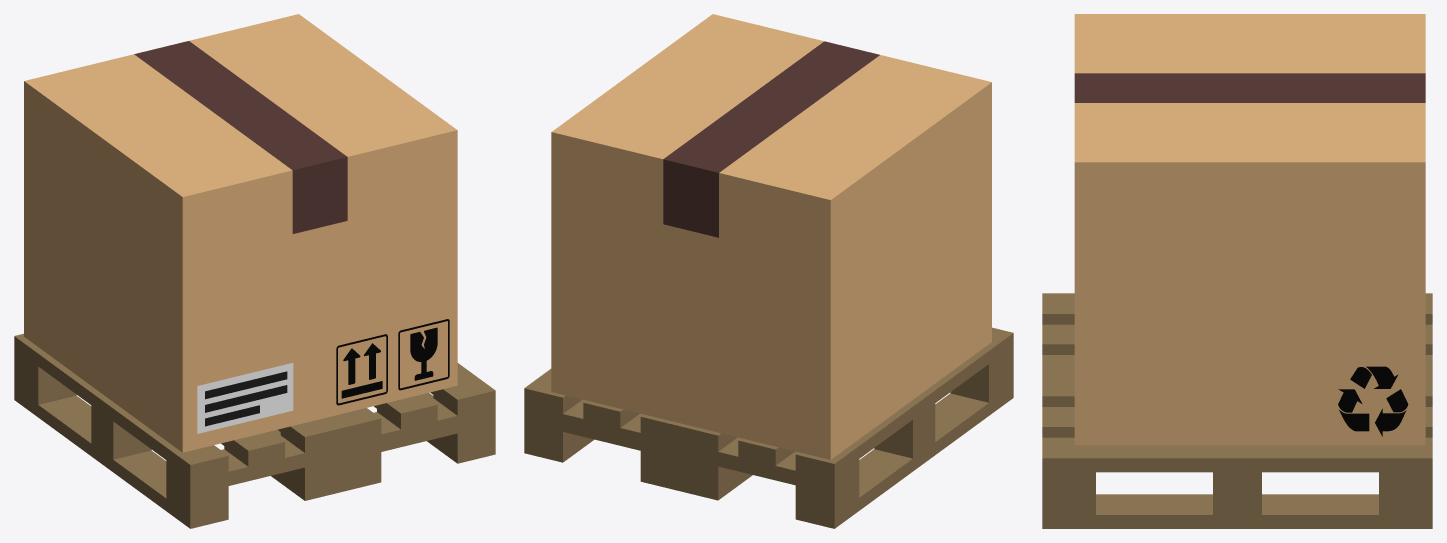
Rendered from package3.fbx.
3 views of the same model, side by side, from view 1: azimuth 30°, elevation 25°; view 2: azimuth 150°, elevation 25°; view 3: azimuth 270°, elevation 25° (orthographic). The views are drawn at different scales.
Parts seen in each view (by area): view 1: Package, Palette, Band, Plane.002, Plane.001, Plane, Plane.004, Plane.003; view 2: Package, Palette, Band; view 3: Package, Palette, Band, Plane.006.
Part boxes in pixels (left/top/right/bottom): Package: left=24, top=14, right=457, bottom=452; Palette: left=14, top=333, right=495, bottom=528; Band: left=134, top=41, right=347, bottom=233; Plane.002: left=197, top=363, right=293, bottom=433; Plane.001: left=336, top=334, right=387, bottom=405; Plane: left=398, top=319, right=449, bottom=390; Plane.004: left=205, top=385, right=287, bottom=412; Plane.003: left=205, top=371, right=287, bottom=399; Package: left=551, top=14, right=991, bottom=459; Palette: left=524, top=327, right=1013, bottom=528; Band: left=663, top=41, right=879, bottom=237; Package: left=1074, top=14, right=1425, bottom=445; Palette: left=1042, top=293, right=1432, bottom=528; Band: left=1074, top=73, right=1425, bottom=102; Plane.006: left=1338, top=366, right=1408, bottom=436.
Bounding box in the file's own units: 200 × 200 × 200.
8 materials, 3 textured.
